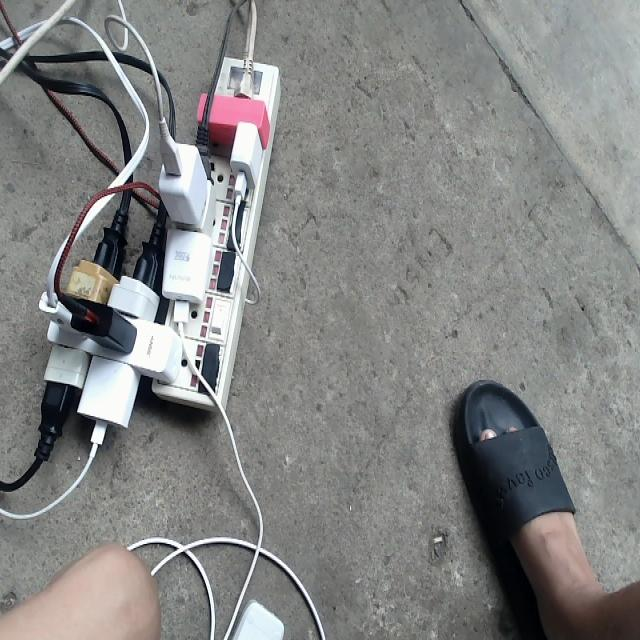-: (39, 54, 278, 462)
